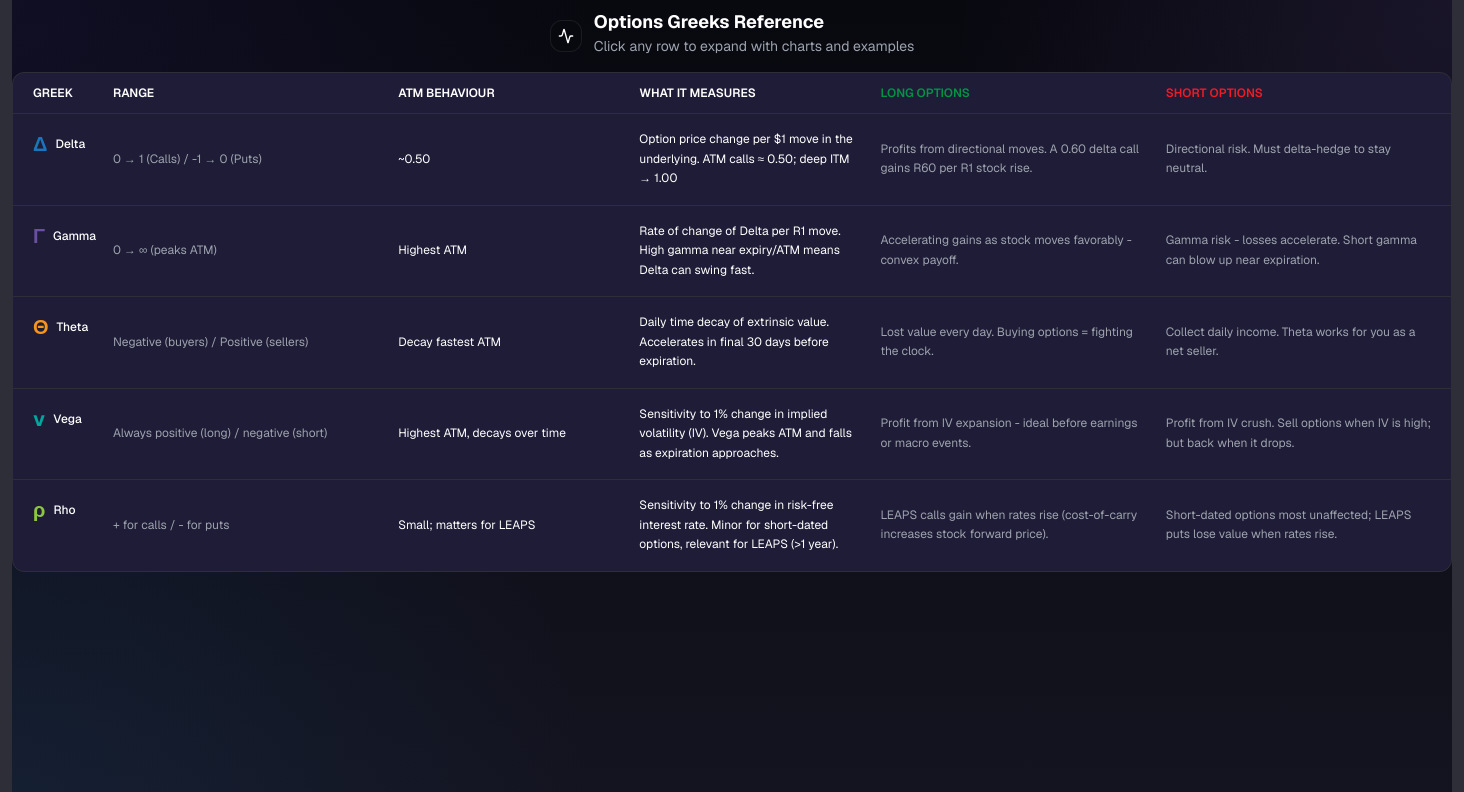
it: GreeksDisplay Component › collapses the expanded column in qustion when button is click a 2nd time
Click the button "Delta" at (732, 159), box [13,114,1451,204]
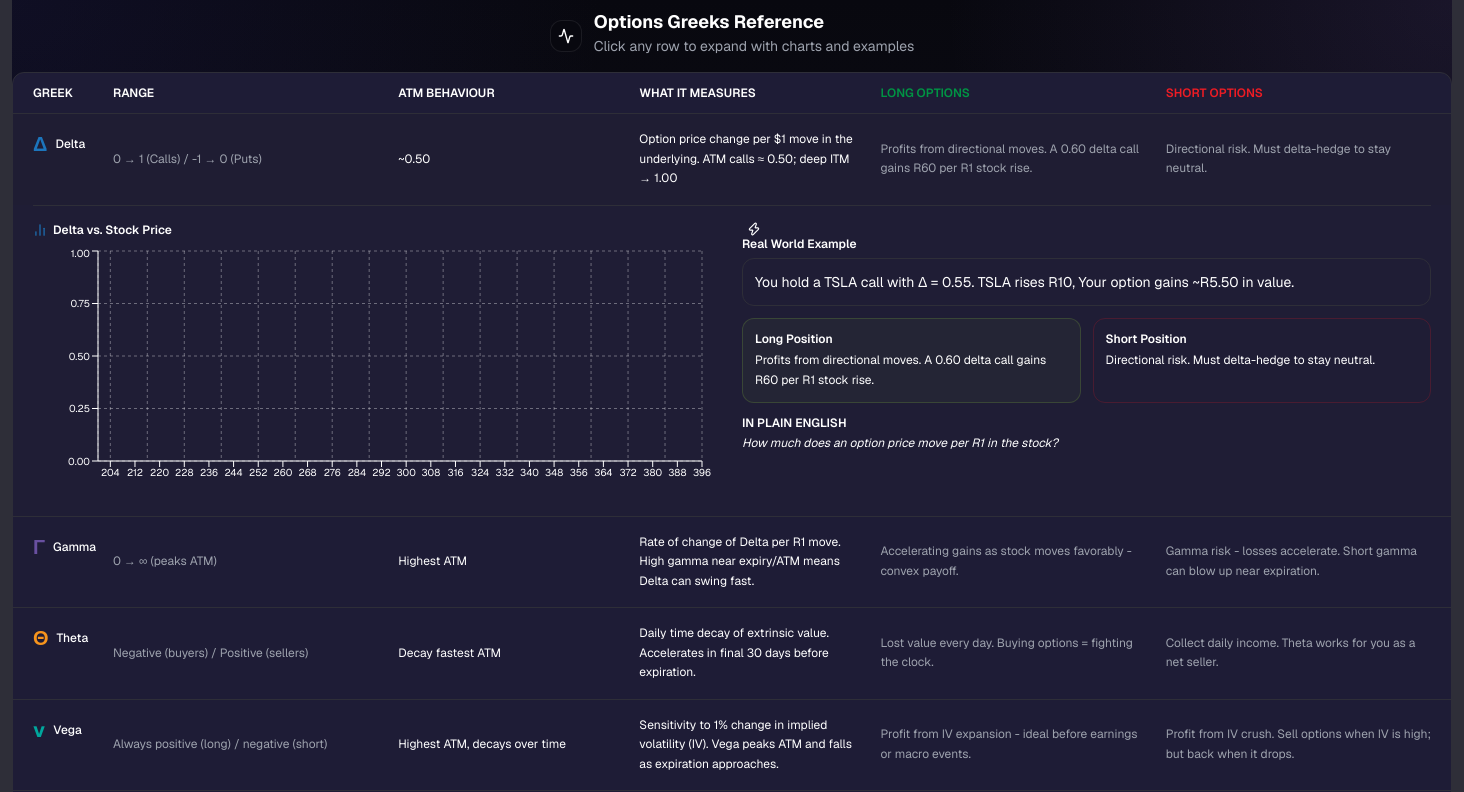
Now the heading "Real World Example" is shown, box [742,222,856,252]
Click the button "Delta" at (732, 159), box [13,114,1451,204]
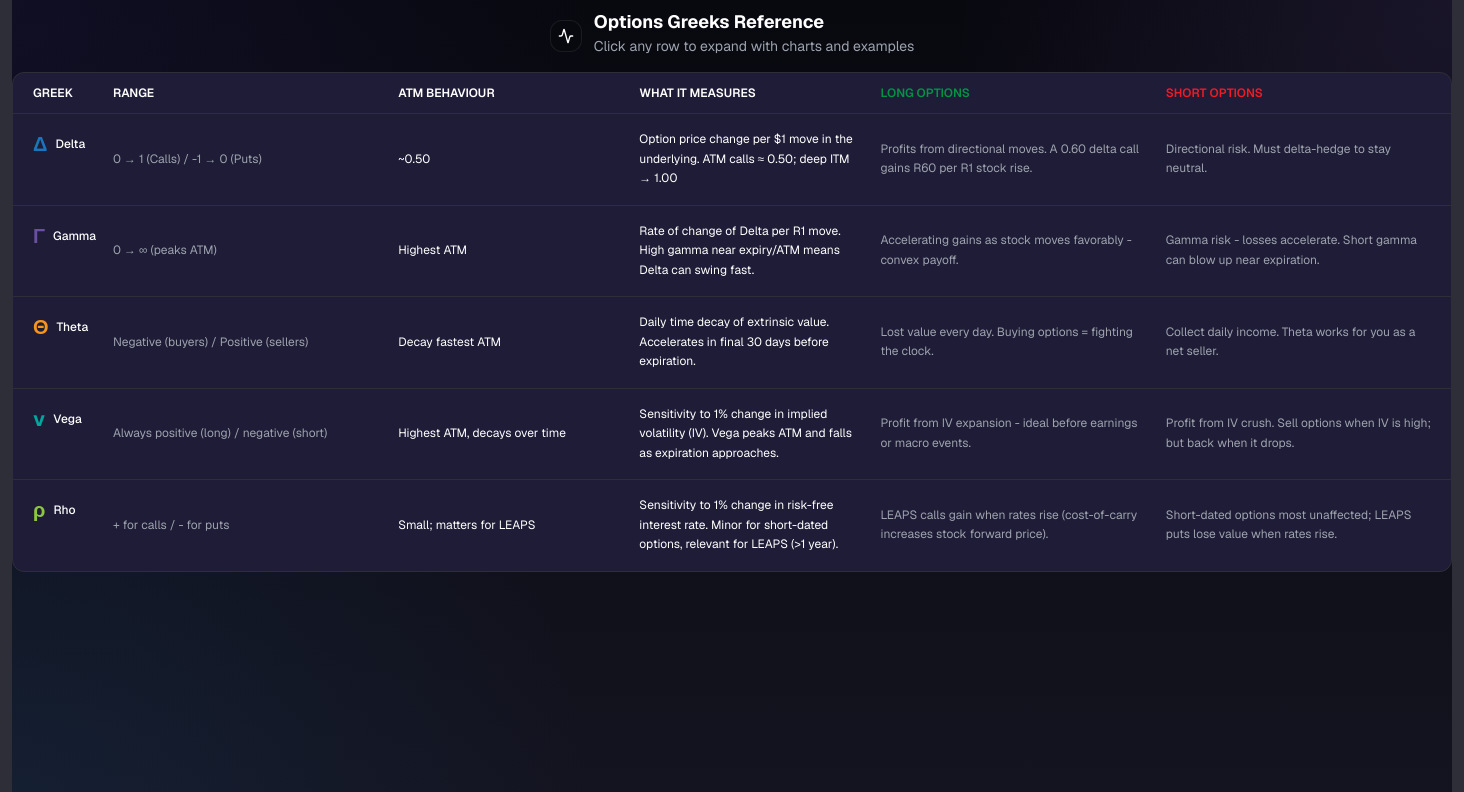
Now the heading "Real World Example" is gone
